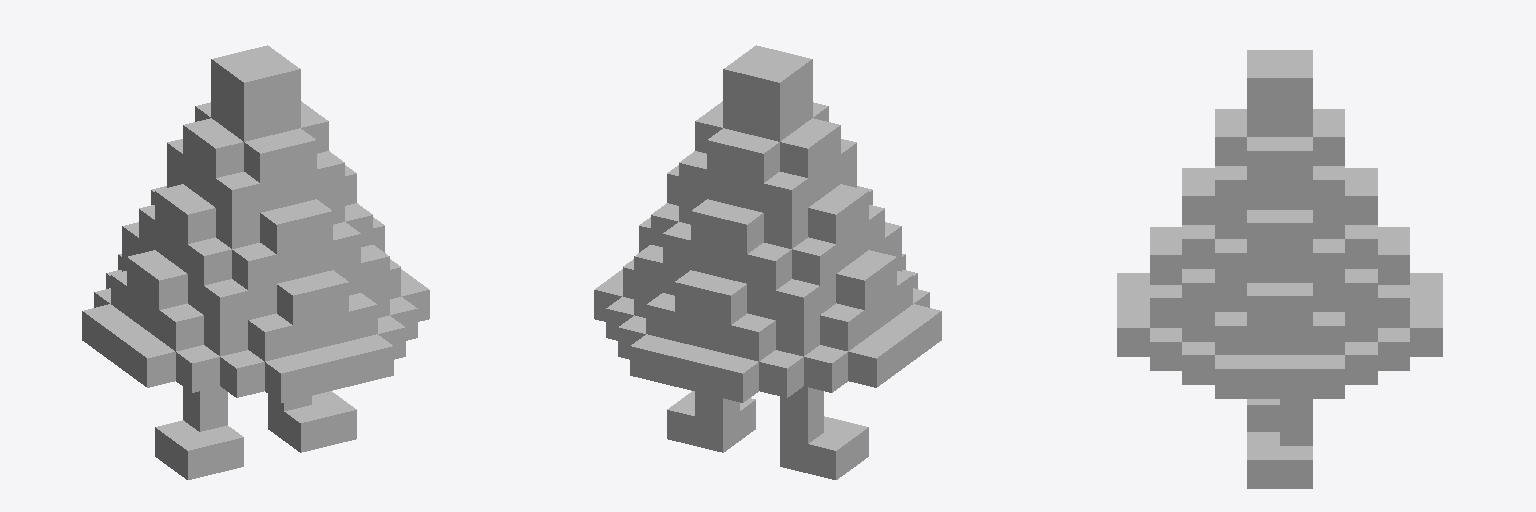
The model's file is Enemy.obj.
3 views of the same model, side by side, from view 1: azimuth 30°, elevation 25°; view 2: azimuth 150°, elevation 25°; view 3: azimuth 270°, elevation 25° (orthographic).
Visible parts, largest first — view 1: object 1; view 2: object 1; view 3: object 1.
Part boxes in pixels (x1,y1,x2,y2): object 1: (82,45,429,479); object 1: (594,45,941,479); object 1: (1117,50,1442,488).
Bounding box in the file's own units: 1 × 1.3 × 1.